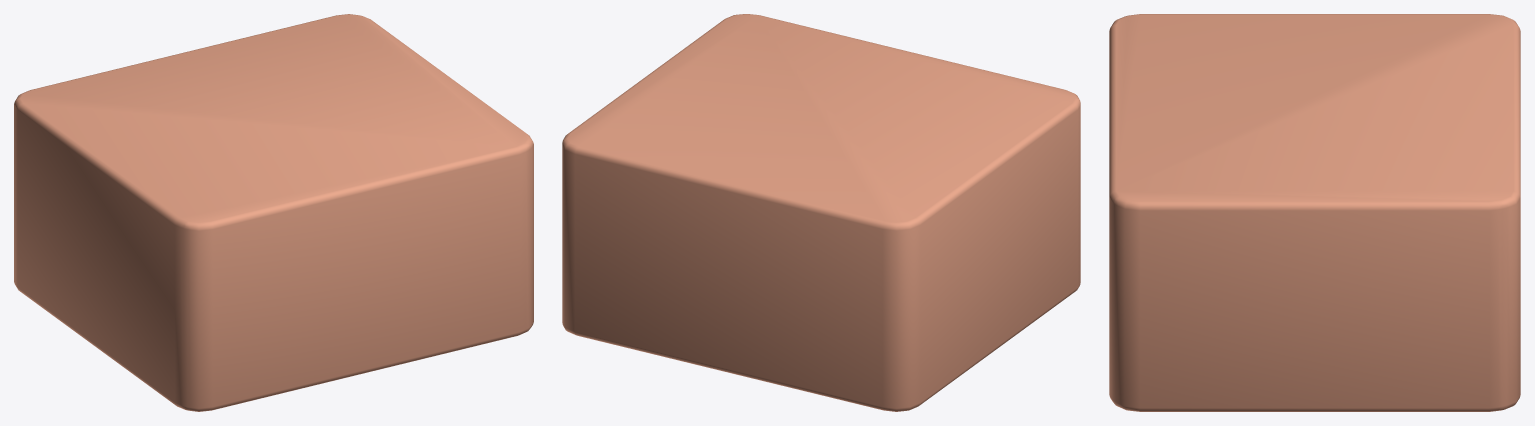
The model's file is island_lv7_3.fbx.
3 renders of one model, left to right at view 1: azimuth 30°, elevation 25°; view 2: azimuth 150°, elevation 25°; view 3: azimuth 270°, elevation 25°, orthographic. The views are drawn at different scales.
Visible parts, largest first — view 1: island_lv7_3; view 2: island_lv7_3; view 3: island_lv7_3.
Part boxes in pixels (box(x1,y1,x2,y2)): island_lv7_3: box(14, 14, 533, 411); island_lv7_3: box(562, 14, 1080, 411); island_lv7_3: box(1109, 14, 1520, 411).
Size of the model in its own units: 985 by 500 by 888.
